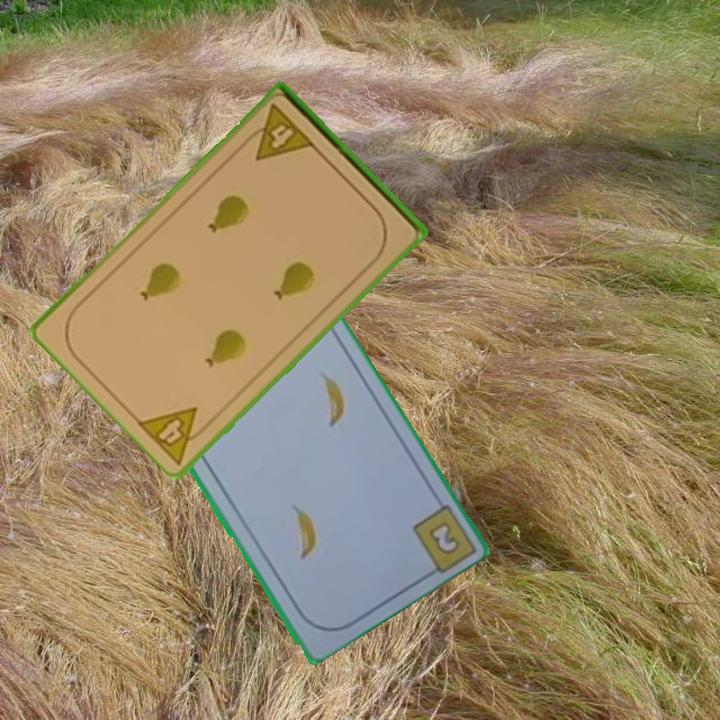2b: (427, 521, 460, 555)
4p: (134, 403, 217, 468), (240, 101, 318, 164)
